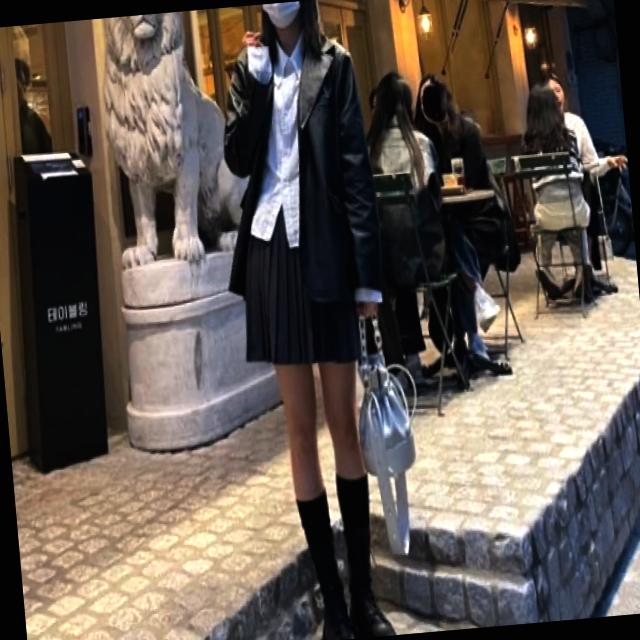blazer: (205, 28, 384, 314), (230, 194, 360, 374)
shirt: (232, 26, 331, 256)
